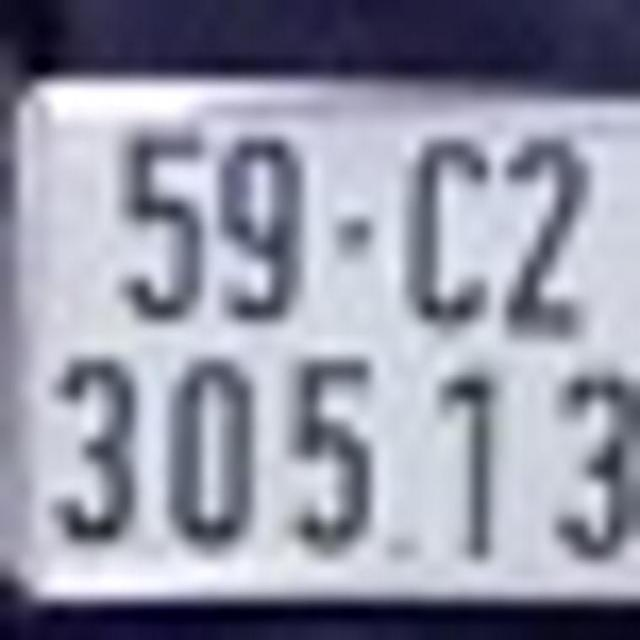0: (174, 344, 264, 549)
1: (438, 369, 504, 562)
2: (500, 134, 591, 340)
3: (44, 342, 144, 548), (550, 357, 640, 564)
5: (120, 128, 212, 333), (290, 360, 385, 556)
9: (224, 138, 304, 327)
C: (389, 138, 495, 328)
